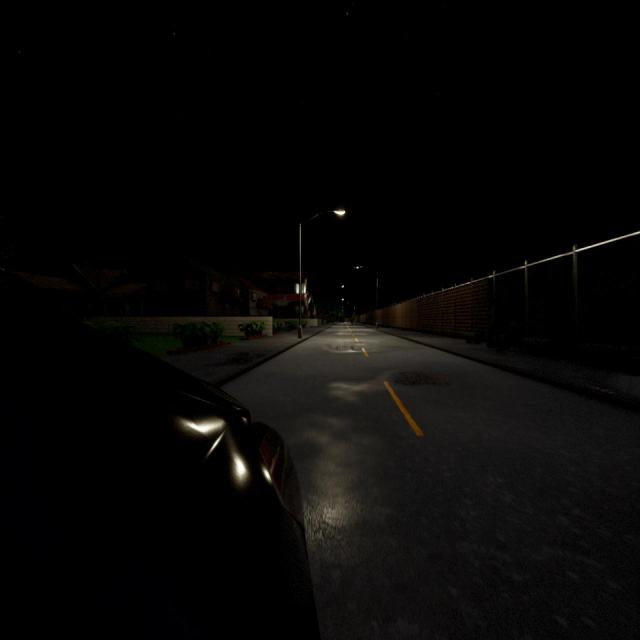Vehicle: (0, 296, 318, 637)
